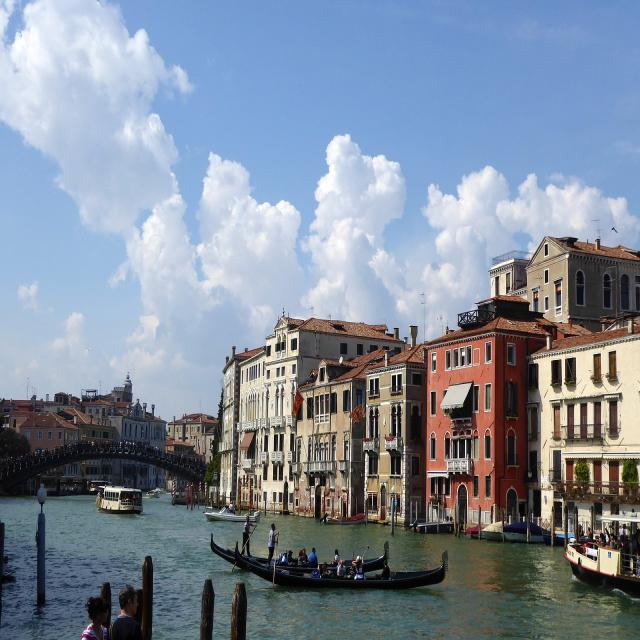boat: (205, 517, 470, 605)
